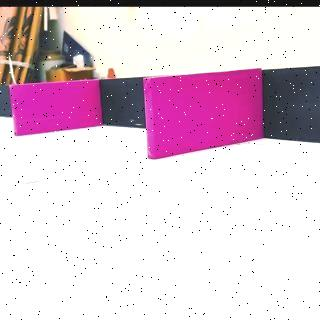xparking: (144, 76, 262, 158), (10, 84, 101, 136)
